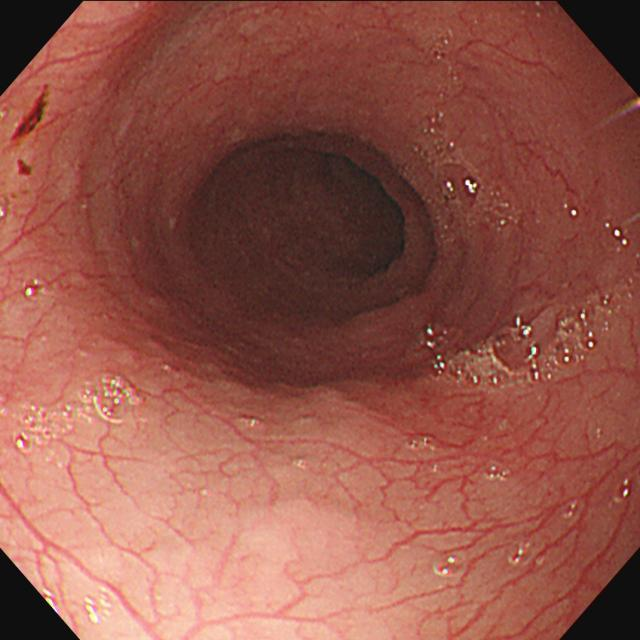E: (237, 139, 411, 301)
J: (8, 85, 52, 179)
T: (424, 294, 633, 389), (416, 115, 518, 237), (13, 376, 142, 460), (430, 549, 476, 584), (505, 537, 543, 568), (404, 430, 441, 457), (485, 459, 515, 485), (615, 474, 637, 503)
